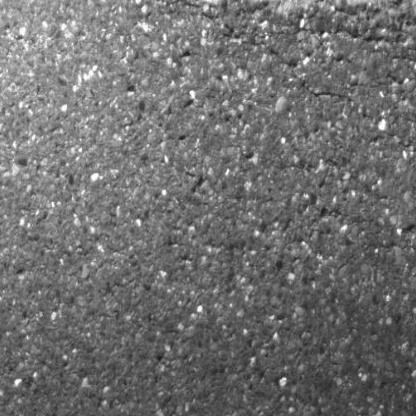Cracks: (194, 0, 416, 13)
